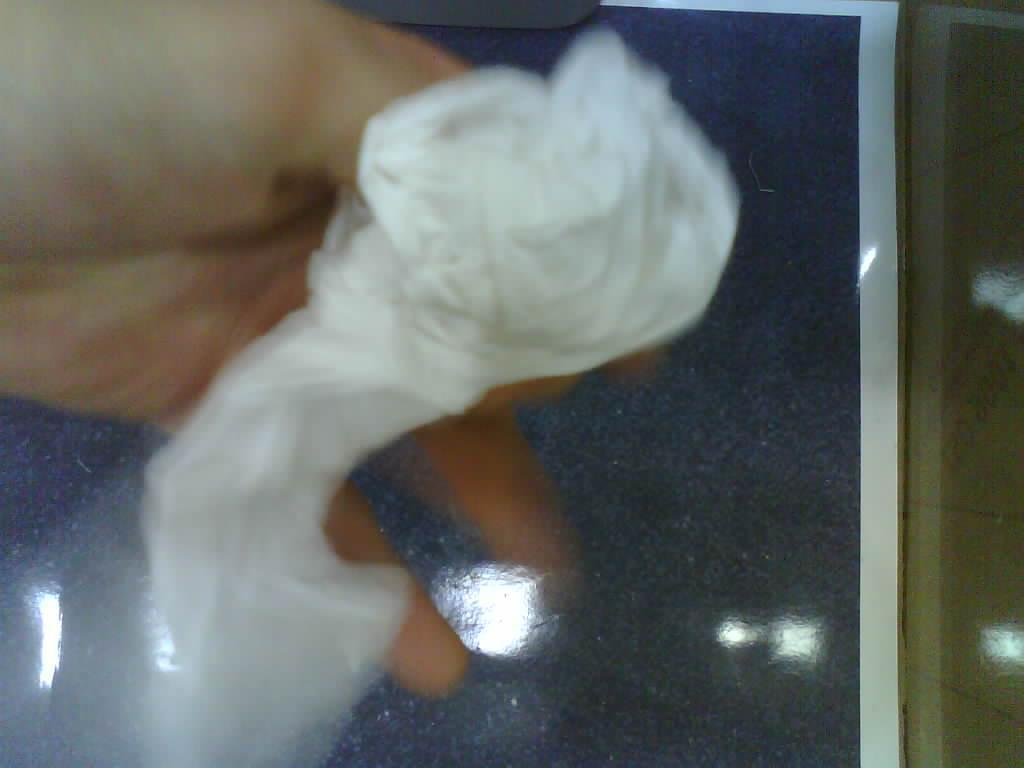paper: (151, 36, 743, 768)
